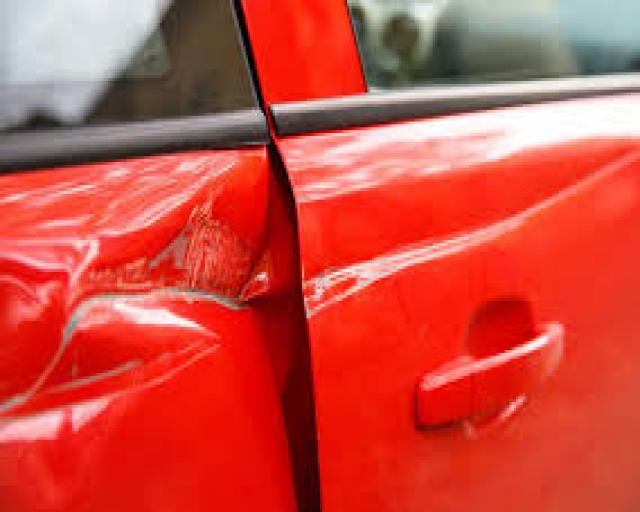dent: (0, 172, 317, 490)
scratch: (36, 218, 365, 361)
